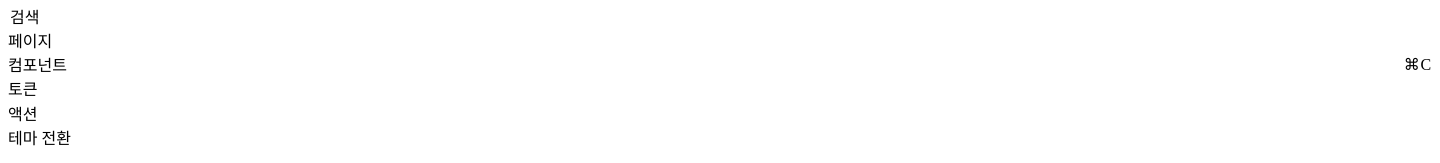
Test: Command › 입력으로 아이템을 필터
This screenshot has width=1440, height=163.
Type "테마" into the dropdown with placeholder "검색". click: (722, 18)
box: left=8, top=8, right=1436, bottom=28
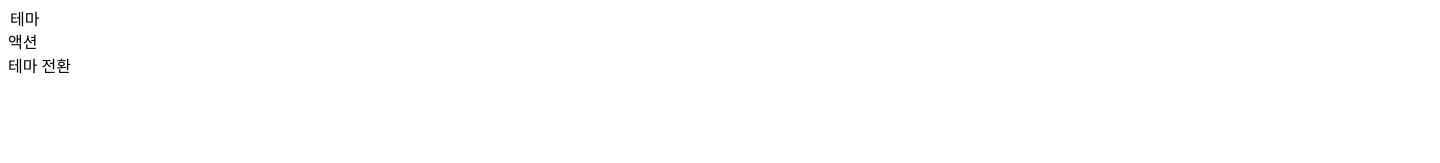
Expected: the option "테마 전환" is shown, left=8, top=58, right=71, bottom=75
Expected: the option "토큰" is gone
